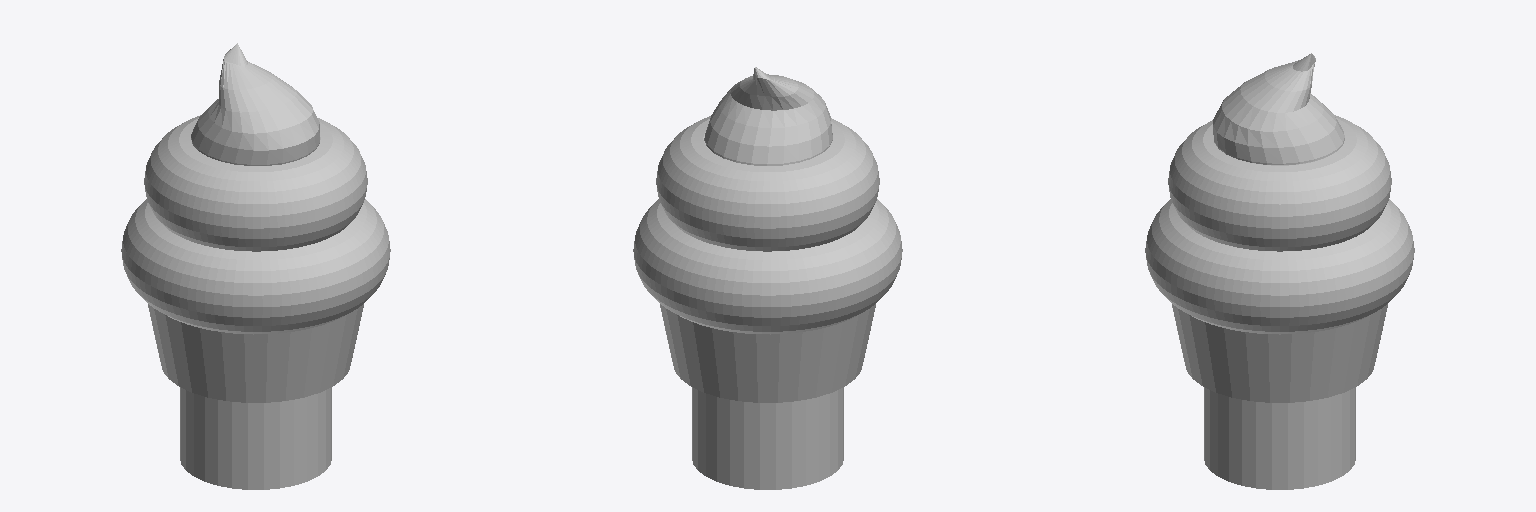
Rendered from icecream.obj.
The picture shows the model from 3 angles: view 1: azimuth 30°, elevation 25°; view 2: azimuth 150°, elevation 25°; view 3: azimuth 270°, elevation 25°; orthographic projection.
Parts seen in each view (by area): view 1: Torus, Torus.001, Cone, Cylinder, Sphere; view 2: Torus, Torus.001, Cone, Cylinder, Sphere; view 3: Torus, Torus.001, Cone, Cylinder, Sphere.
Boxes of the visible parts, x1=… form: Torus: x1=121, y1=199, x2=390, y2=334; Torus.001: x1=144, y1=115, x2=367, y2=251; Cone: x1=148, y1=304, x2=363, y2=402; Cylinder: x1=180, y1=387, x2=331, y2=489; Sphere: x1=191, y1=43, x2=319, y2=165; Torus: x1=633, y1=199, x2=902, y2=334; Torus.001: x1=656, y1=116, x2=879, y2=251; Cone: x1=660, y1=304, x2=875, y2=402; Cylinder: x1=692, y1=387, x2=843, y2=489; Sphere: x1=704, y1=67, x2=832, y2=165; Torus: x1=1145, y1=199, x2=1414, y2=334; Torus.001: x1=1168, y1=115, x2=1391, y2=251; Cone: x1=1172, y1=304, x2=1387, y2=402; Cylinder: x1=1204, y1=387, x2=1355, y2=489; Sphere: x1=1213, y1=53, x2=1344, y2=164.
Size of the model in its own units: 4.94 by 8.18 by 4.94.